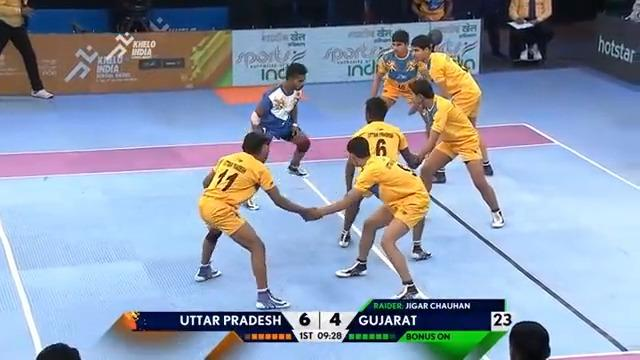Player: (194, 130, 320, 309), (301, 136, 431, 300), (406, 78, 505, 228), (337, 96, 424, 253), (407, 33, 494, 182), (370, 29, 430, 129), (0, 0, 54, 99)
Raider: (242, 61, 310, 210)
referee: (506, 0, 553, 65), (476, 0, 508, 58), (113, 0, 153, 33)
